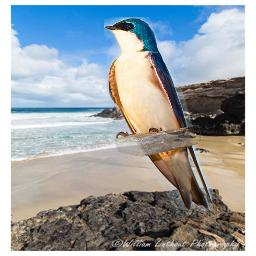Swallow: (104, 17, 213, 211)
